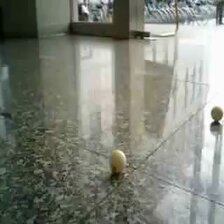w: (109, 150, 127, 172), (210, 106, 224, 121)
